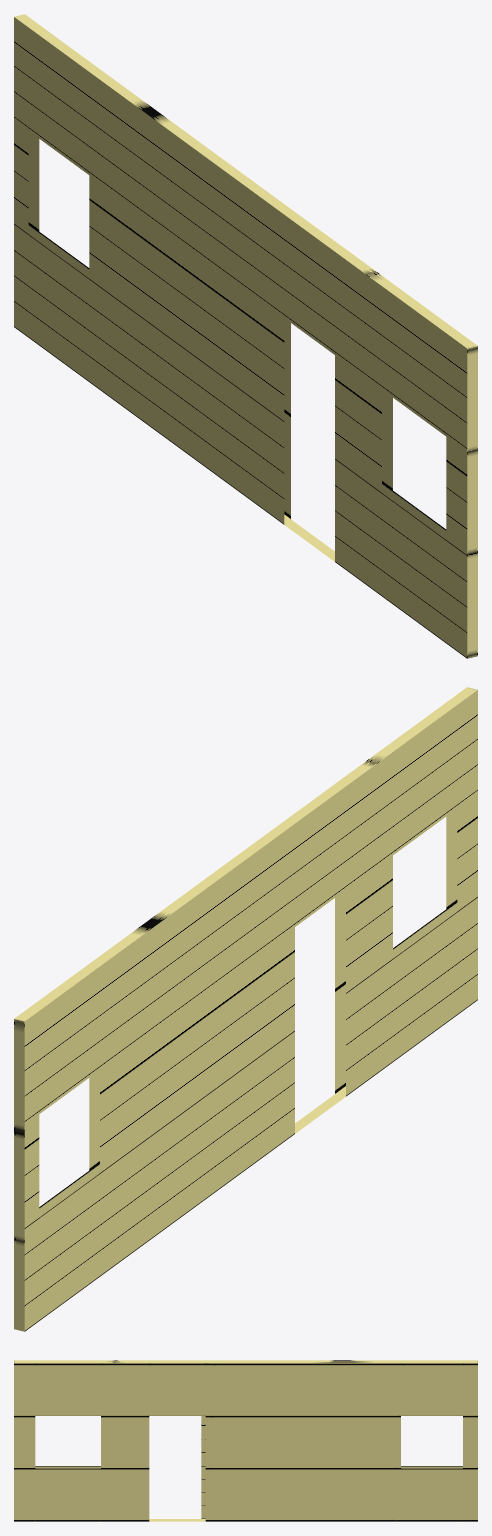
Rendered from paredfachadaizquierda.obj.
The picture shows the model from 3 angles, top to bottom: view 1: azimuth 30°, elevation 25°; view 2: azimuth 150°, elevation 25°; view 3: azimuth 270°, elevation 25°; orthographic projection. The views are drawn at different scales.
Parts seen in each view (by area): view 1: pCube2; view 2: pCube2; view 3: pCube2.
Part boxes in pixels (x1,y1,x2,y2): pCube2: (14,14,477,658); pCube2: (14,687,477,1331); pCube2: (14,1360,477,1521).
Bounding box in the file's own units: 0.1043 × 2.85 × 7.56.
Materials: 1 (1 with a texture image).
